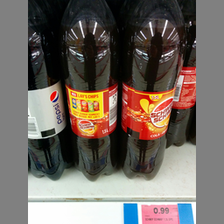soda: (119, 1, 186, 181), (57, 1, 121, 181), (28, 1, 72, 181)
